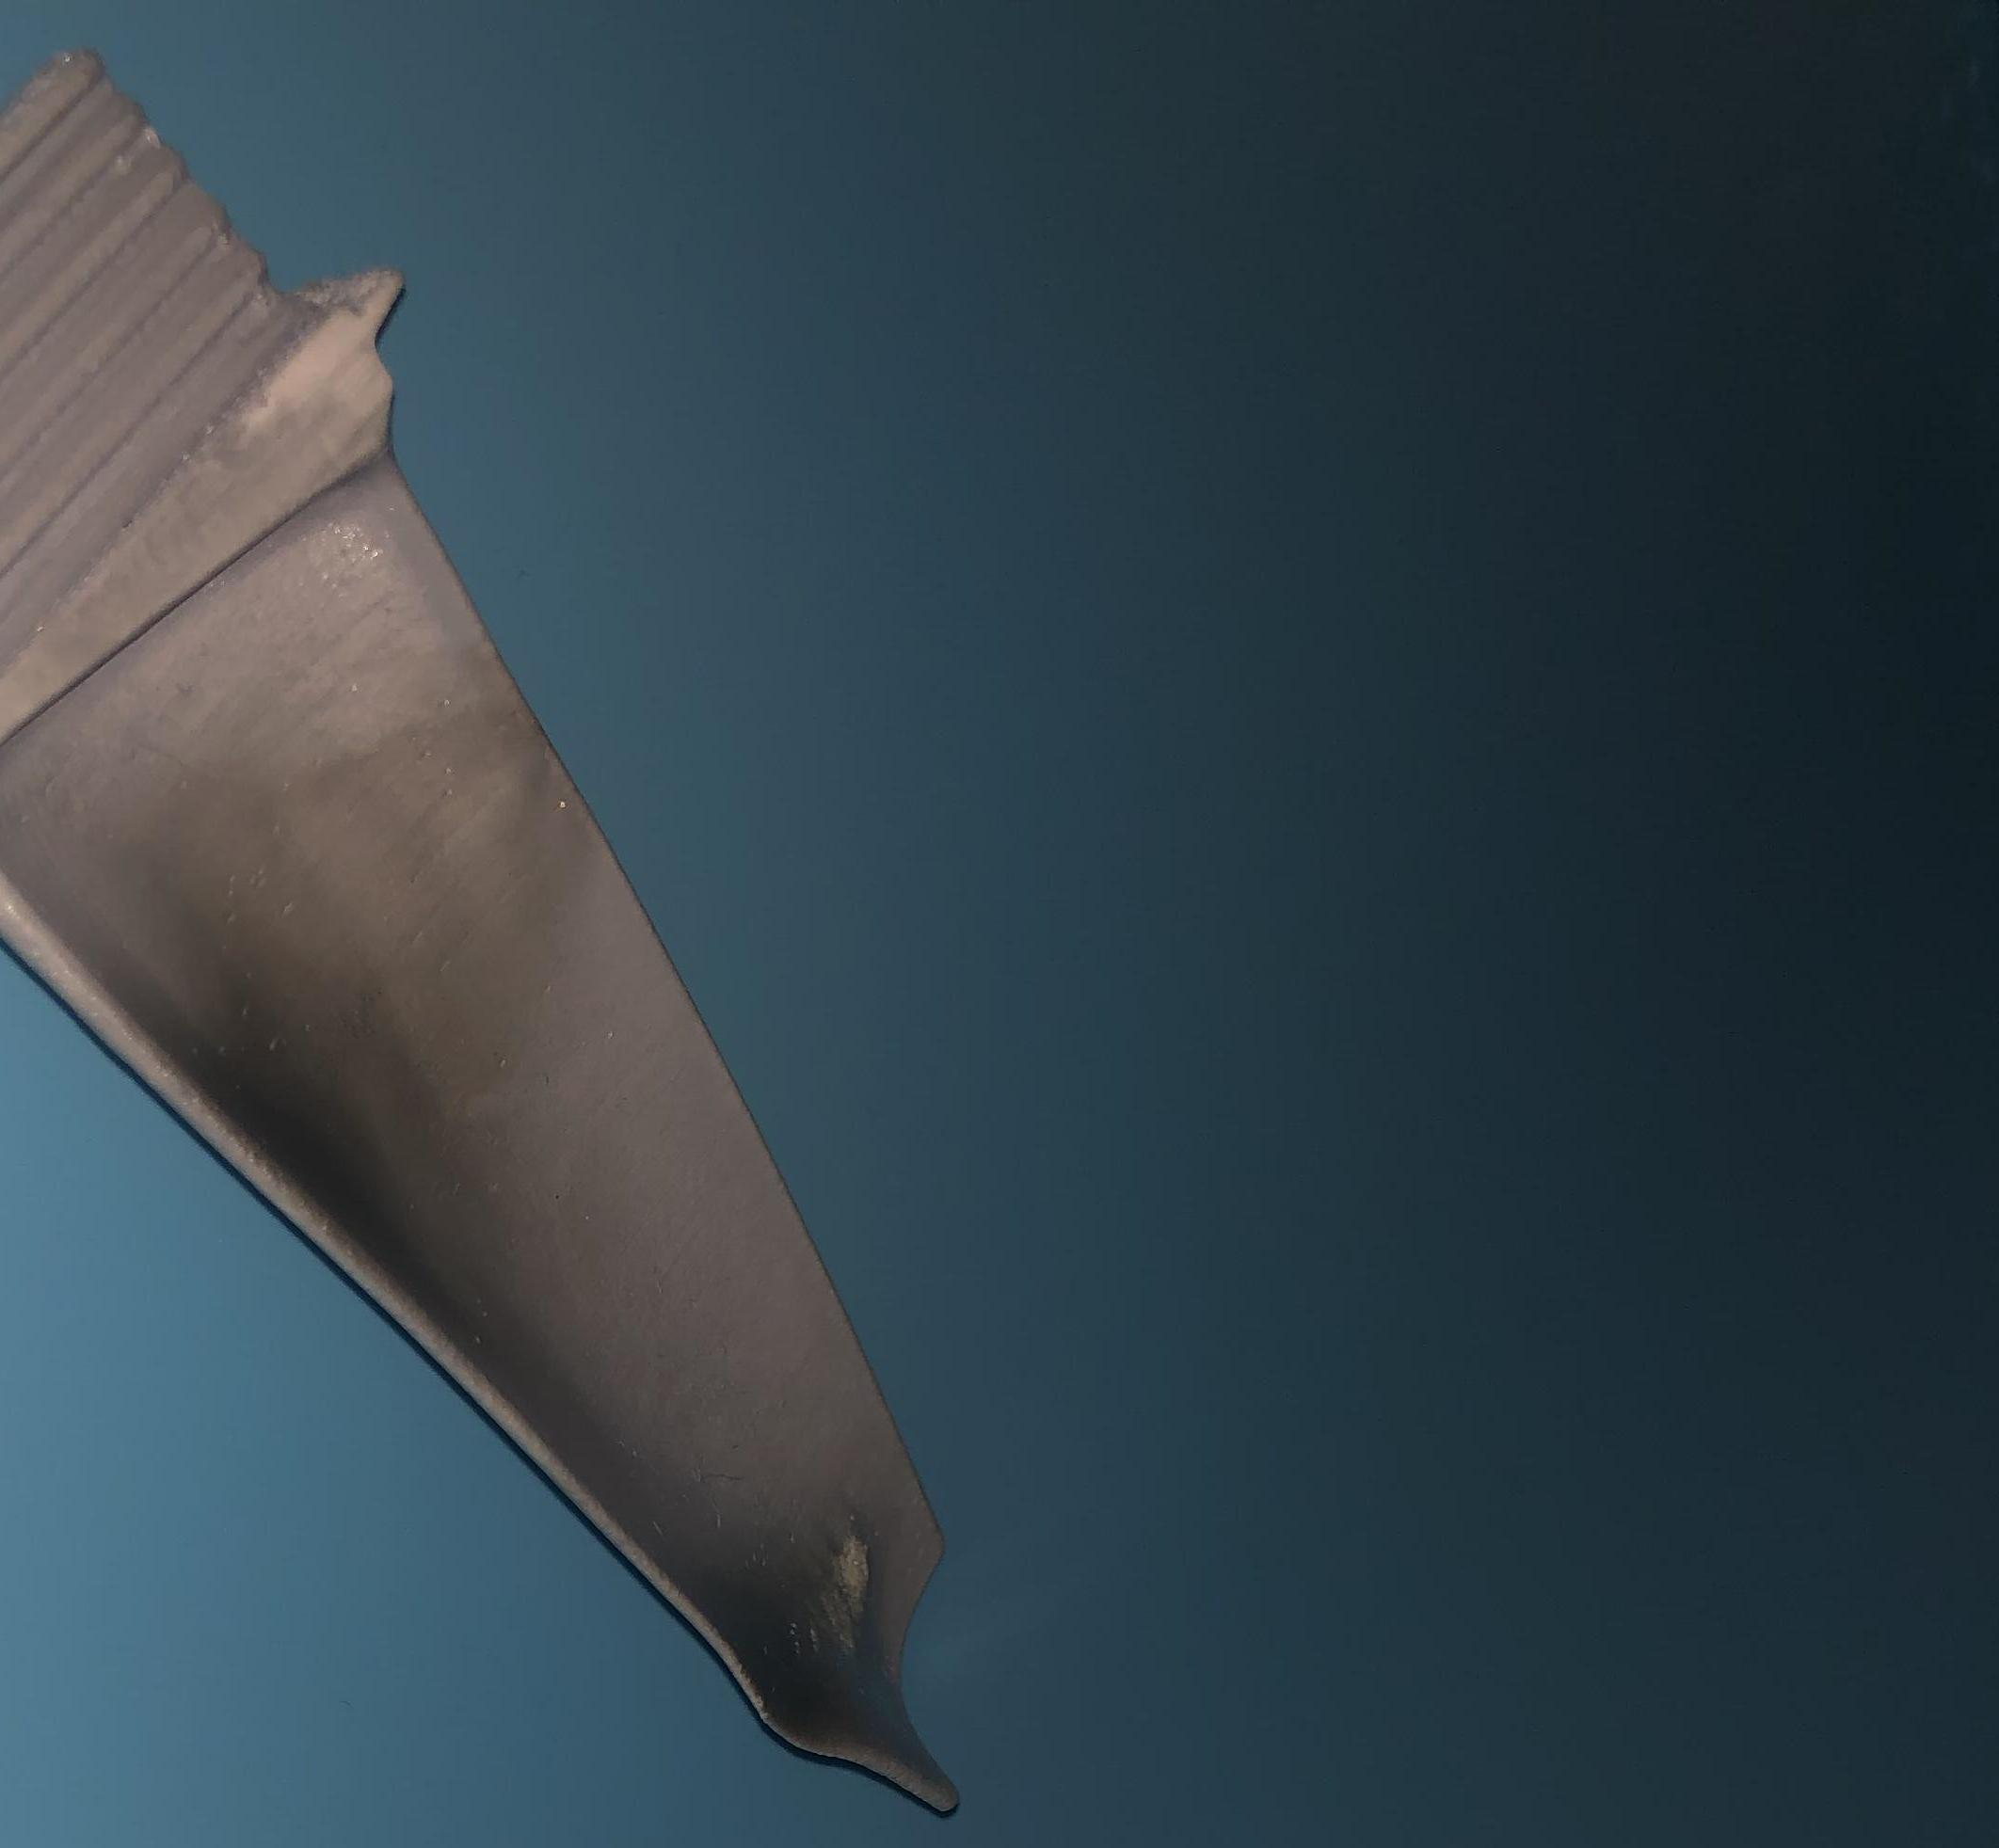ablation: (176, 868, 456, 1197), (717, 1516, 881, 1707)
